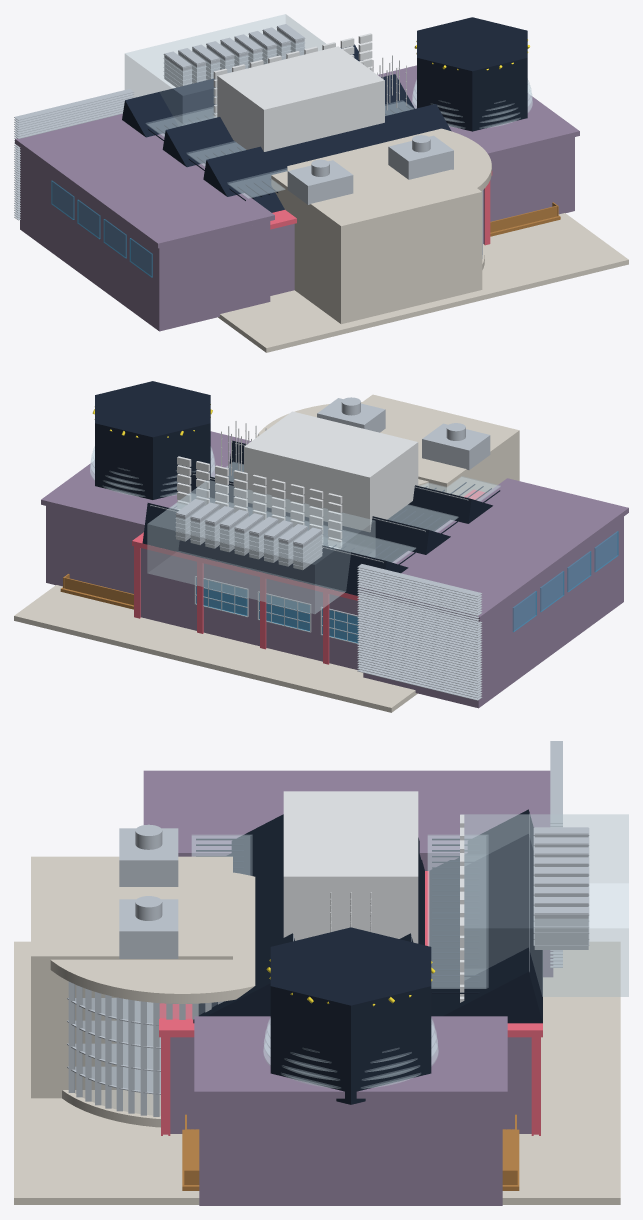
Rendered from hq_04_design_l6.glb.
3 views of the same model, one above another, from view 1: azimuth 30°, elevation 25°; view 2: azimuth 150°, elevation 25°; view 3: azimuth 270°, elevation 25° (orthographic). The views are drawn at different scales.
Visible parts, largest first — view 1: GEO_FullScale_1_to_1_Clay_Hall, GEO_Design_Review_Theater, GEO_Sawtooth_Roof_Slopes, GEO_Plinth_Foundation, GEO_Sustainable_Materials_Atrium, GEO_VR_Immersive_Cave_Shell, GEO_CAS_Digital_Styling_Wing, GEO_ClassA_Surfacing_Curtain_Wall, GEO_AI_Generative_Computing_Racks, GEO_Theater_Rooftop_HVAC, GEO_Architectural_Sunshade_Louvers, GEO_Sawtooth_Photovoltaic_Skin (+7 smaller); view 2: GEO_FullScale_1_to_1_Clay_Hall, GEO_ClassA_Surfacing_Curtain_Wall, GEO_Sustainable_Materials_Atrium, GEO_Plinth_Foundation, GEO_Architectural_Sunshade_Louvers, GEO_Design_Studio_Brick_Hall, GEO_Sawtooth_Roof_Slopes, GEO_VR_Immersive_Cave_Shell, GEO_CAS_Digital_Styling_Wing, GEO_Design_Review_Theater, GEO_AI_Generative_Computing_Racks, GEO_CMF_Material_Sample_Wall (+8 smaller); view 3: GEO_CAS_Digital_Styling_Wing, GEO_Plinth_Foundation, GEO_Sawtooth_Roof_Slopes, GEO_VR_Immersive_Cave_Shell, GEO_ClassA_Surfacing_Curtain_Wall, GEO_FullScale_1_to_1_Clay_Hall, GEO_Design_Review_Theater, GEO_Sustainable_Materials_Atrium, GEO_Reveal_Rotunda_Structure, GEO_Sawtooth_Photovoltaic_Skin, GEO_Reveal_Rotunda_Mullions, GEO_Theater_Rooftop_HVAC (+8 smaller).
Part boxes in pixels (x1,y1,x2,y2): GEO_FullScale_1_to_1_Clay_Hall: (15,113,274,331); GEO_Design_Review_Theater: (271,147,482,324); GEO_Sawtooth_Roof_Slopes: (122,44,451,212); GEO_Plinth_Foundation: (218,213,628,352); GEO_Sustainable_Materials_Atrium: (217,46,406,151); GEO_VR_Immersive_Cave_Shell: (417,17,527,131); GEO_CAS_Digital_Styling_Wing: (378,65,579,221); GEO_ClassA_Surfacing_Curtain_Wall: (124,14,325,124); GEO_AI_Generative_Computing_Racks: (163,24,305,87); GEO_Theater_Rooftop_HVAC: (287,135,453,204); GEO_Architectural_Sunshade_Louvers: (14,89,133,220); GEO_Sawtooth_Photovoltaic_Skin: (146,100,414,198); GEO_FullScale_1_to_1_Clay_Hall: (358,478,628,708); GEO_ClassA_Surfacing_Curtain_Wall: (147,480,375,613); GEO_Sustainable_Materials_Atrium: (221,411,418,532); GEO_Plinth_Foundation: (14,585,417,712); GEO_Architectural_Sunshade_Louvers: (357,564,482,700); GEO_Design_Studio_Brick_Hall: (140,548,358,669); GEO_Sawtooth_Roof_Slopes: (142,440,500,595); GEO_VR_Immersive_Cave_Shell: (95,381,210,499); GEO_CAS_Digital_Styling_Wing: (41,431,250,593); GEO_Design_Review_Theater: (361,394,519,496); GEO_AI_Generative_Computing_Racks: (175,499,322,570); GEO_CMF_Material_Sample_Wall: (177,456,342,549); GEO_CAS_Digital_Styling_Wing: (194,1016,507,1205); GEO_Plinth_Foundation: (14,941,620,1204); GEO_Sawtooth_Roof_Slopes: (193,809,542,1023); GEO_VR_Immersive_Cave_Shell: (270,927,431,1104); GEO_ClassA_Surfacing_Curtain_Wall: (461,814,628,996); GEO_FullScale_1_to_1_Clay_Hall: (143,770,553,977); GEO_Design_Review_Theater: (31,856,232,1098); GEO_Sustainable_Materials_Atrium: (283,791,418,943); GEO_Reveal_Rotunda_Structure: (50,872,255,1127); GEO_Sawtooth_Photovoltaic_Skin: (191,834,488,988); GEO_Reveal_Rotunda_Mullions: (67,981,223,1116); GEO_Theater_Rooftop_HVAC: (119,824,178,958).
Size of what is drawn, in the model's own units: 43.8 by 14.5 by 36.5.
